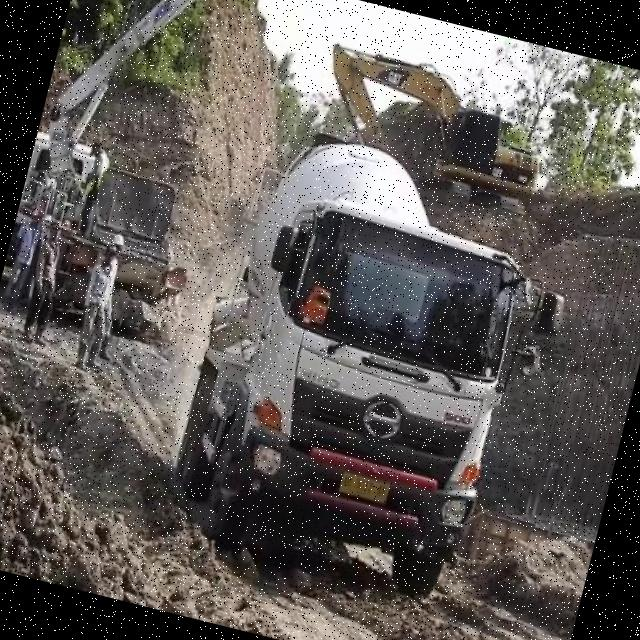Excavator: (304, 36, 558, 214)
Mobile Crane: (18, 0, 232, 244)
